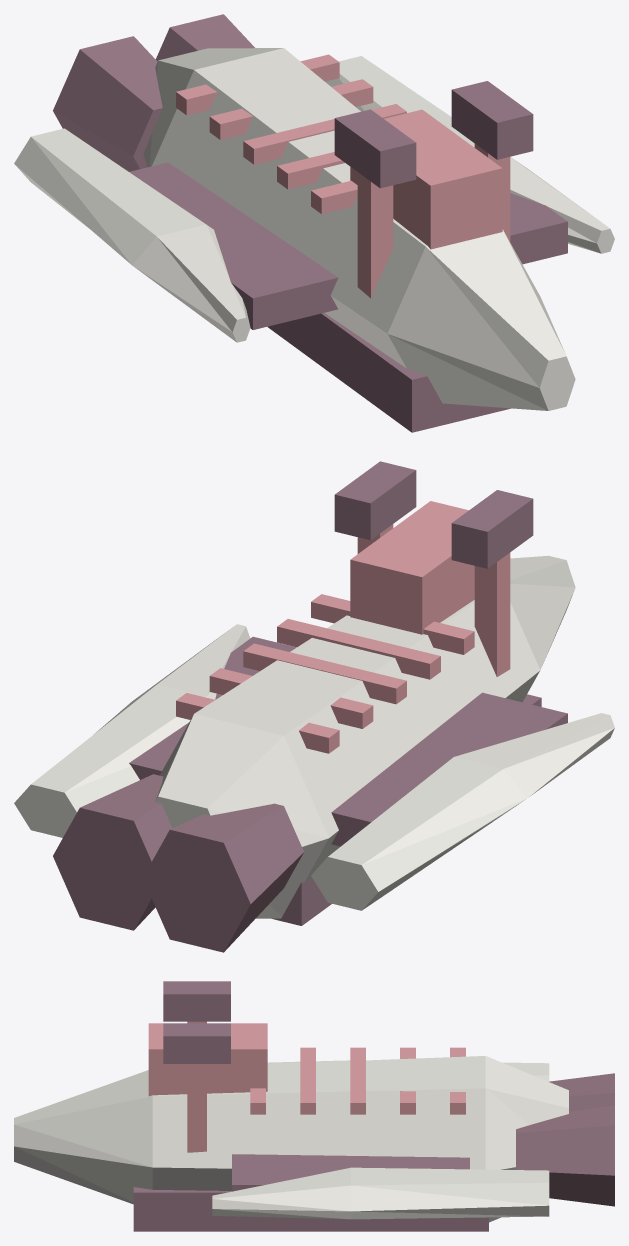
3 renders of one model, top to bottom at view 1: azimuth 30°, elevation 25°; view 2: azimuth 150°, elevation 25°; view 3: azimuth 270°, elevation 25°, orthographic. The views are drawn at different scales.
Size of the model in its own units: 3.45 by 2.24 by 6.12.
